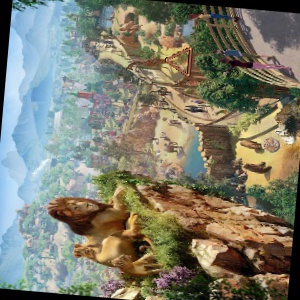triangle: (164, 44, 193, 79)
